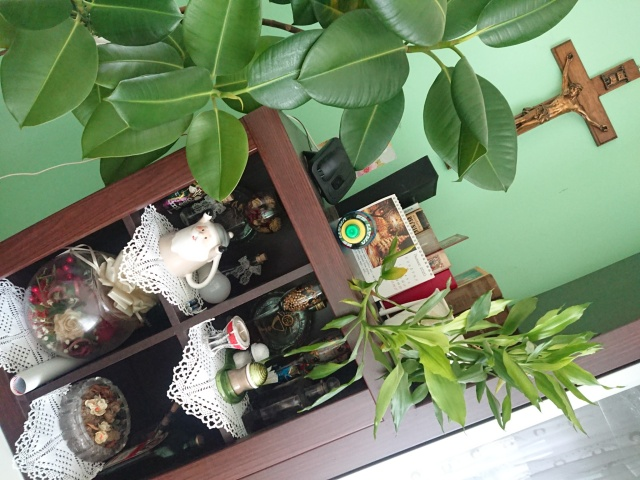Vindi Iso Sport Forest Strawberries 500mL: (334, 210, 377, 250)
